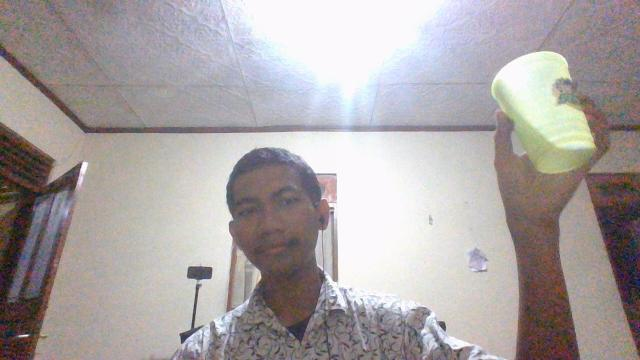botol-hijau: (490, 49, 598, 175)
